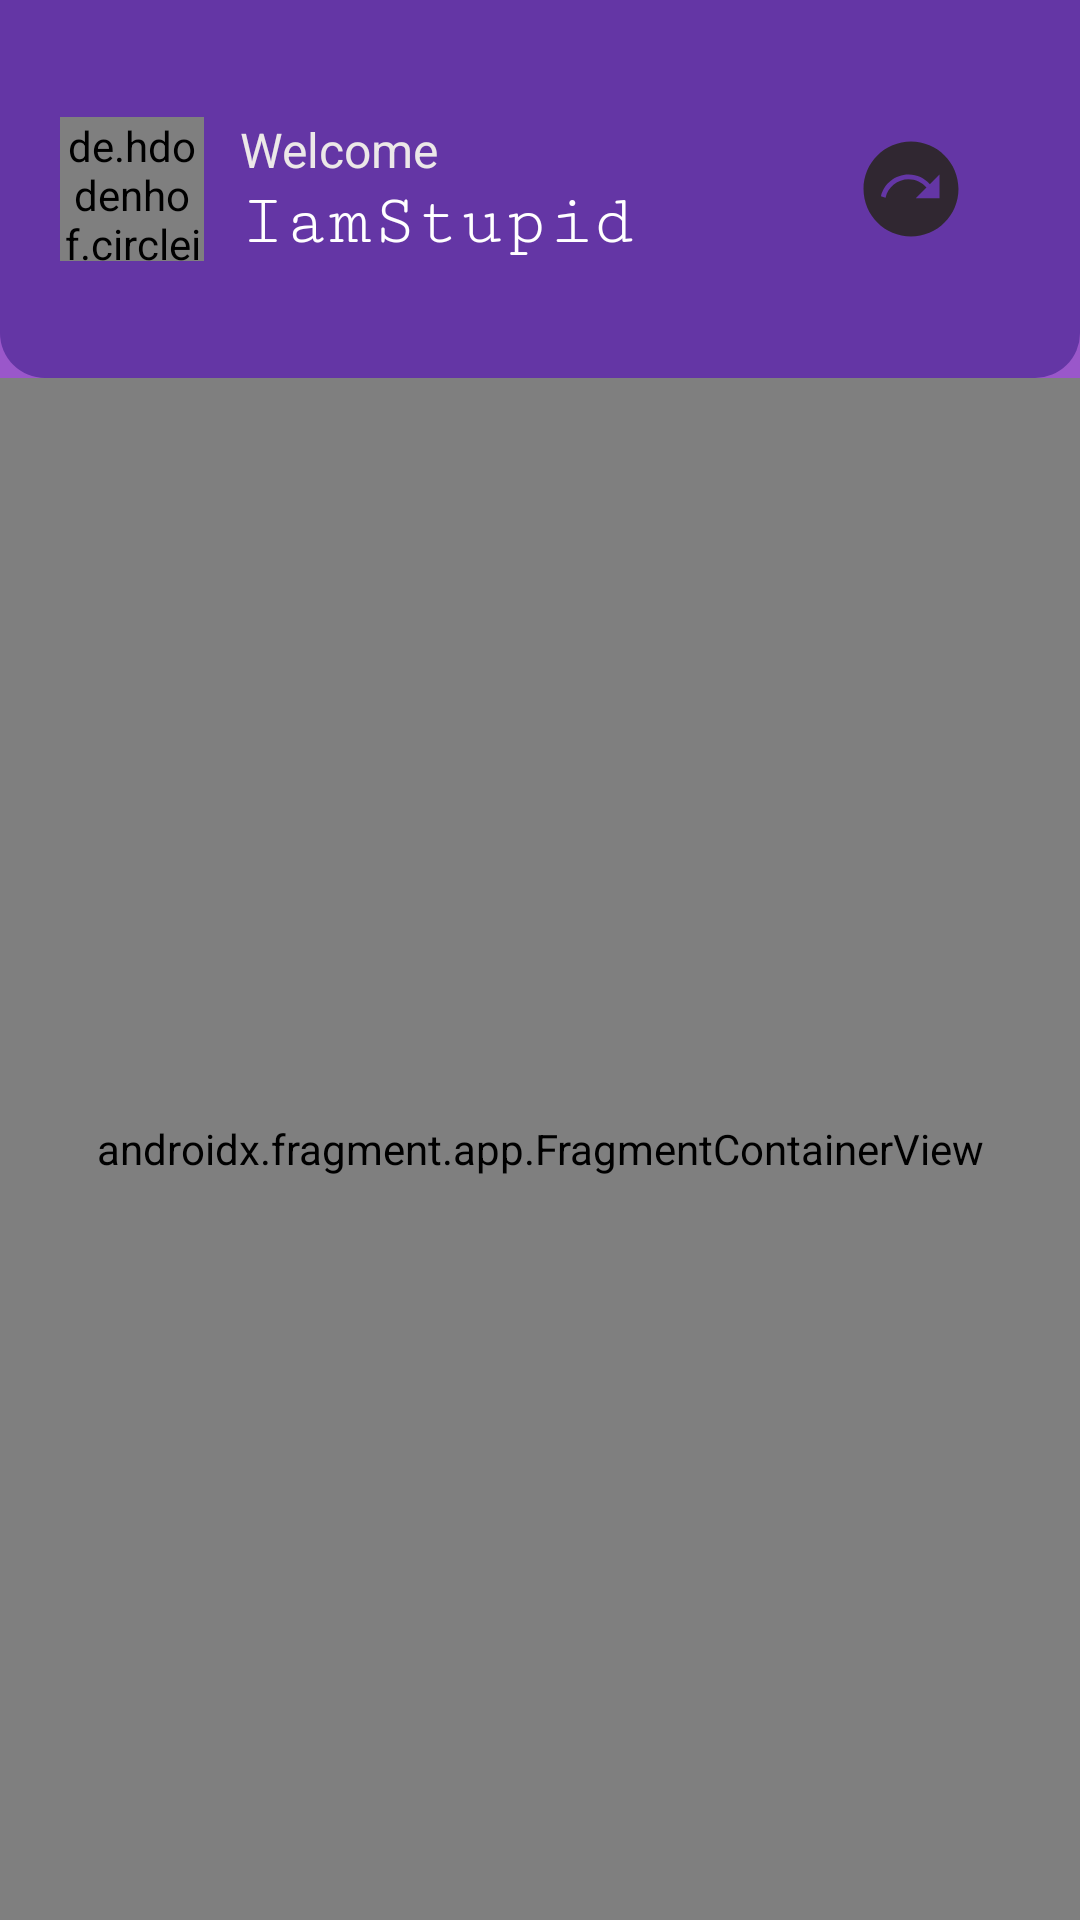

Named icons in this screenshot (1080px×1920px) and their centers, (x,y):
next plan: (911,189)
